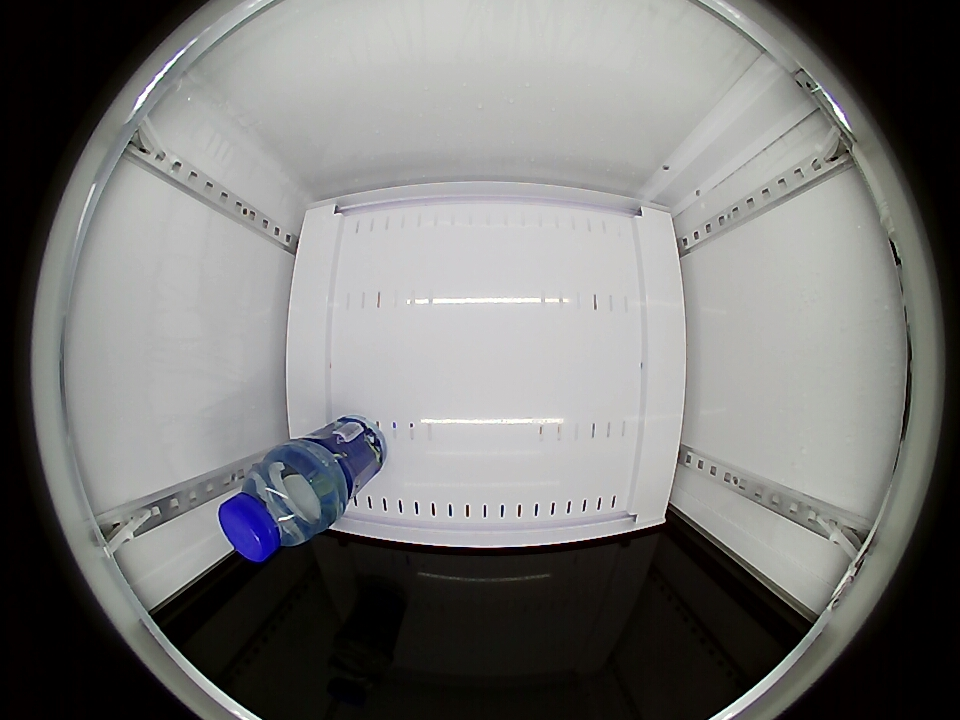maidong: (218, 454, 329, 562)
